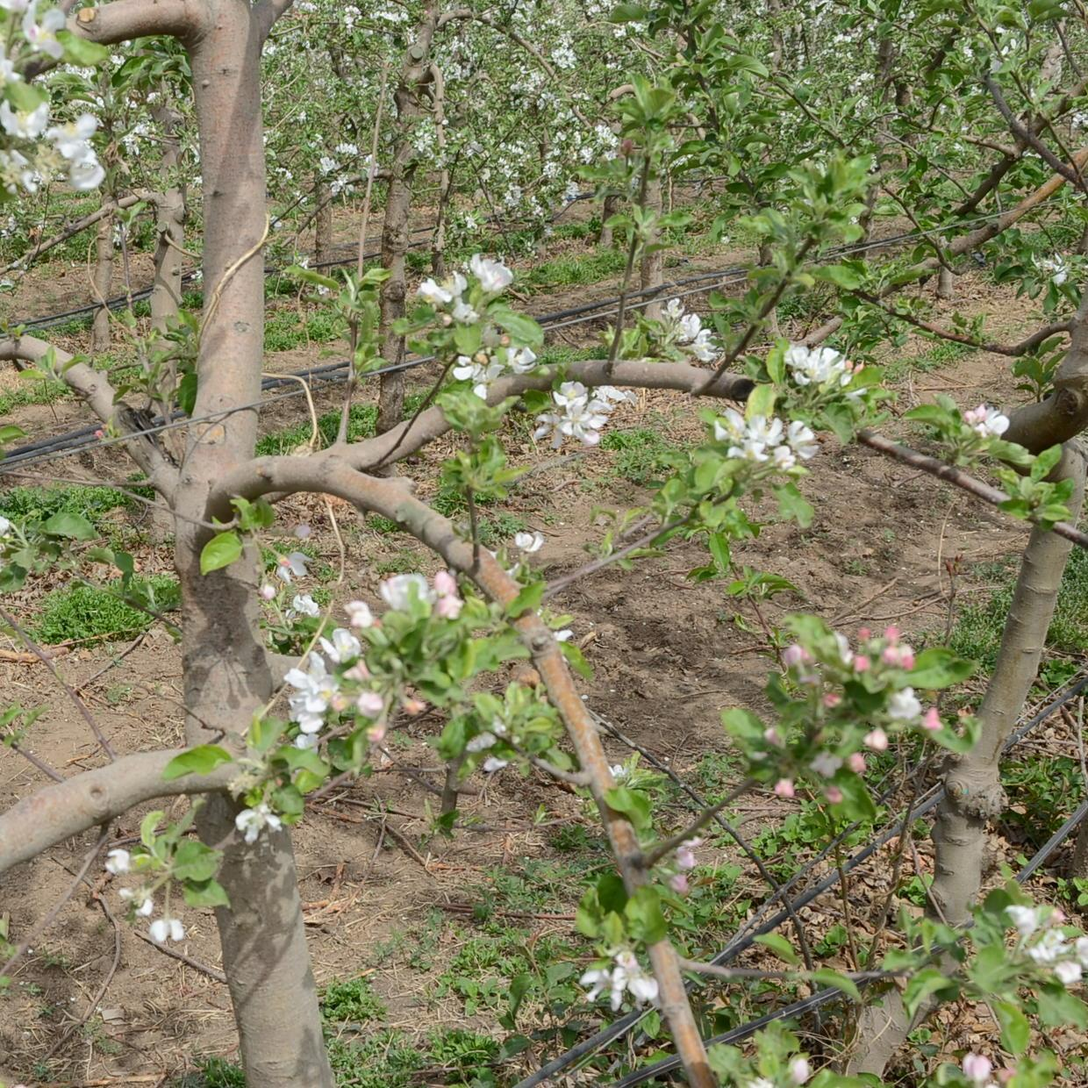apple_flower: (535, 380, 637, 446), (716, 404, 820, 468), (1010, 905, 1088, 984), (285, 651, 339, 746), (581, 948, 662, 1010), (45, 110, 105, 188), (453, 343, 539, 397), (663, 297, 724, 361), (748, 1056, 846, 1088), (787, 341, 856, 382), (22, 0, 66, 55), (417, 268, 473, 304), (0, 97, 49, 136), (468, 252, 514, 291), (236, 803, 283, 841), (381, 572, 428, 609), (324, 626, 362, 661), (890, 686, 926, 719), (149, 917, 185, 944), (513, 528, 547, 555), (0, 41, 19, 87), (104, 848, 132, 874), (292, 593, 322, 615), (0, 513, 15, 533), (0, 0, 27, 8)
